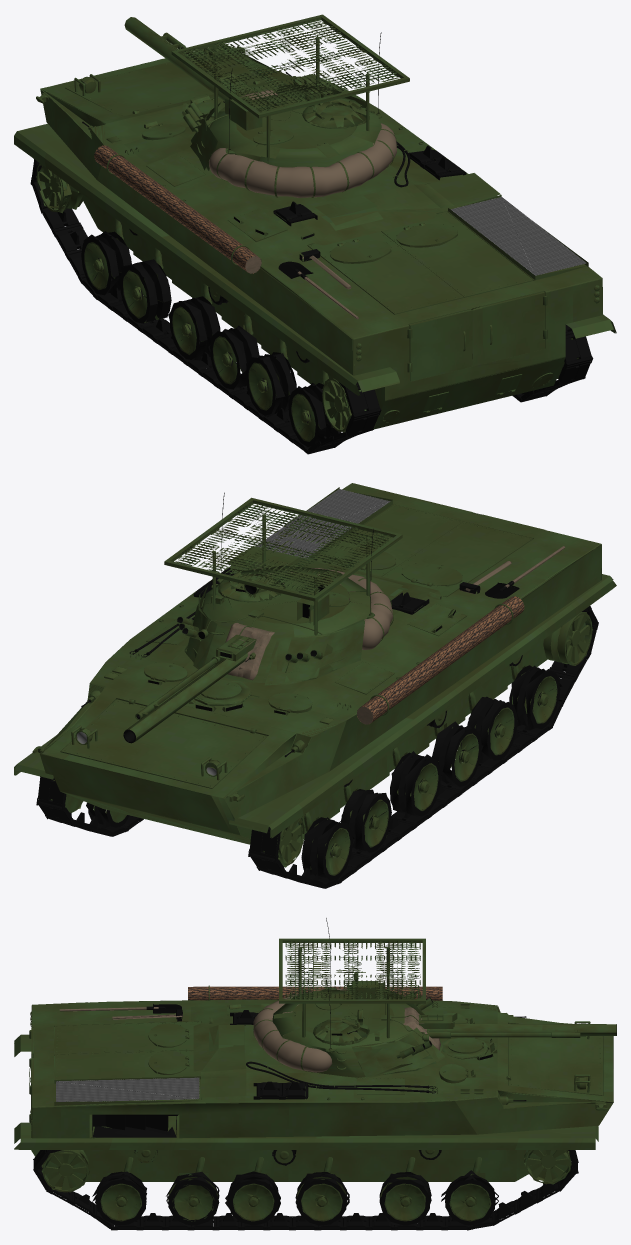
File: bmp3.glb
The picture shows the model from 3 angles, top to bottom: view 1: azimuth 30°, elevation 25°; view 2: azimuth 150°, elevation 25°; view 3: azimuth 270°, elevation 25°; orthographic projection. The views are drawn at different scales.
Parts seen in each view (by area): view 1: V_bmp3__Body_12, V_bmp3__Body_11, V_bmp3__Turret_5, V_bmp3__Body_2, V_bmp3__Turret_4, V_bmp3__Body_4, V_bmp3__Body_3, V_bmp3__Body_13, V_bmp3__Body_14, V_bmp3__Gun_3; view 2: V_bmp3__Body_12, V_bmp3__Body_11, V_bmp3__Turret_5, V_bmp3__Body_2, V_bmp3__Body_4, V_bmp3__Body_3, V_bmp3__Body_14, V_bmp3__Body_13, V_bmp3__Turret_4, V_bmp3__Gun_3; view 3: V_bmp3__Body_12, V_bmp3__Body_11, V_bmp3__Turret_5, V_bmp3__Body_2, V_bmp3__Body_4, V_bmp3__Body_3, V_bmp3__Body_13, V_bmp3__Turret_4, V_bmp3__Gun_3, V_bmp3__Body_14.
Boxes of the visible parts, box(x1,y1,x2,y2) form: V_bmp3__Body_12: box(14, 44, 616, 437); V_bmp3__Body_11: box(36, 44, 601, 441); V_bmp3__Turret_5: box(171, 14, 409, 197); V_bmp3__Body_2: box(31, 141, 592, 453); V_bmp3__Turret_4: box(209, 90, 396, 197); V_bmp3__Body_4: box(157, 145, 592, 454); V_bmp3__Body_3: box(30, 152, 592, 453); V_bmp3__Body_13: box(450, 197, 586, 275); V_bmp3__Body_14: box(94, 145, 261, 273); V_bmp3__Gun_3: box(124, 17, 244, 101); V_bmp3__Body_12: box(14, 483, 616, 869); V_bmp3__Body_11: box(51, 483, 600, 875); V_bmp3__Turret_5: box(164, 497, 402, 685); V_bmp3__Body_2: box(37, 570, 598, 888); V_bmp3__Body_4: box(38, 568, 598, 850); V_bmp3__Body_3: box(36, 582, 597, 888); V_bmp3__Body_14: box(357, 596, 524, 724); V_bmp3__Body_13: box(255, 489, 390, 558); V_bmp3__Turret_4: box(225, 568, 392, 680); V_bmp3__Gun_3: box(123, 647, 255, 741); V_bmp3__Body_12: box(14, 1000, 613, 1221); V_bmp3__Body_11: box(29, 985, 602, 1221); V_bmp3__Turret_5: box(253, 938, 457, 1078); V_bmp3__Body_2: box(33, 1012, 578, 1229); V_bmp3__Body_4: box(33, 1010, 578, 1230); V_bmp3__Body_3: box(34, 1009, 578, 1229); V_bmp3__Body_13: box(56, 1077, 199, 1101); V_bmp3__Turret_4: box(253, 988, 440, 1072); V_bmp3__Gun_3: box(426, 1023, 616, 1038); V_bmp3__Body_14: box(188, 986, 442, 1000).
Size of the model in its own units: 8.81 by 8.74 by 20.23.
11 materials, 5 textured.
